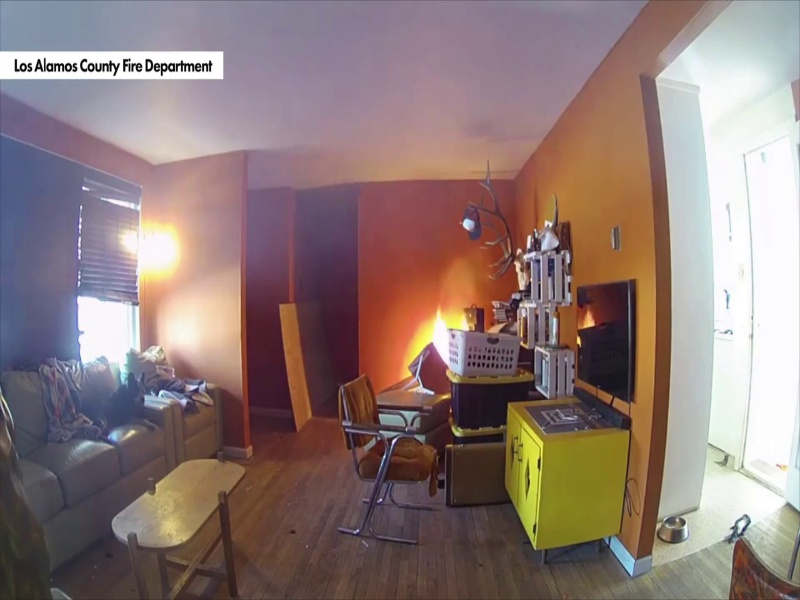fire: (429, 311, 448, 348)
